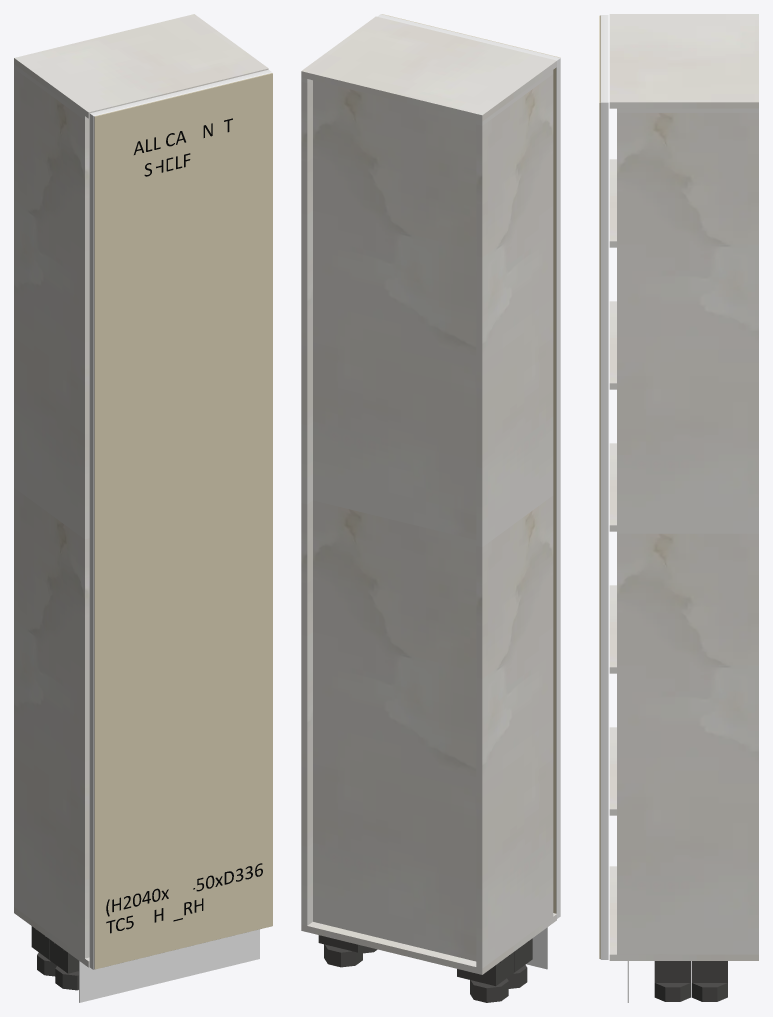
3 renders of one model, left to right at view 1: azimuth 30°, elevation 25°; view 2: azimuth 150°, elevation 25°; view 3: azimuth 270°, elevation 25°, orthographic.
Size of what is drawn, in the model's own units: 0.45 by 2.14 by 0.366.
Materials: 6 (1 with a texture image).
